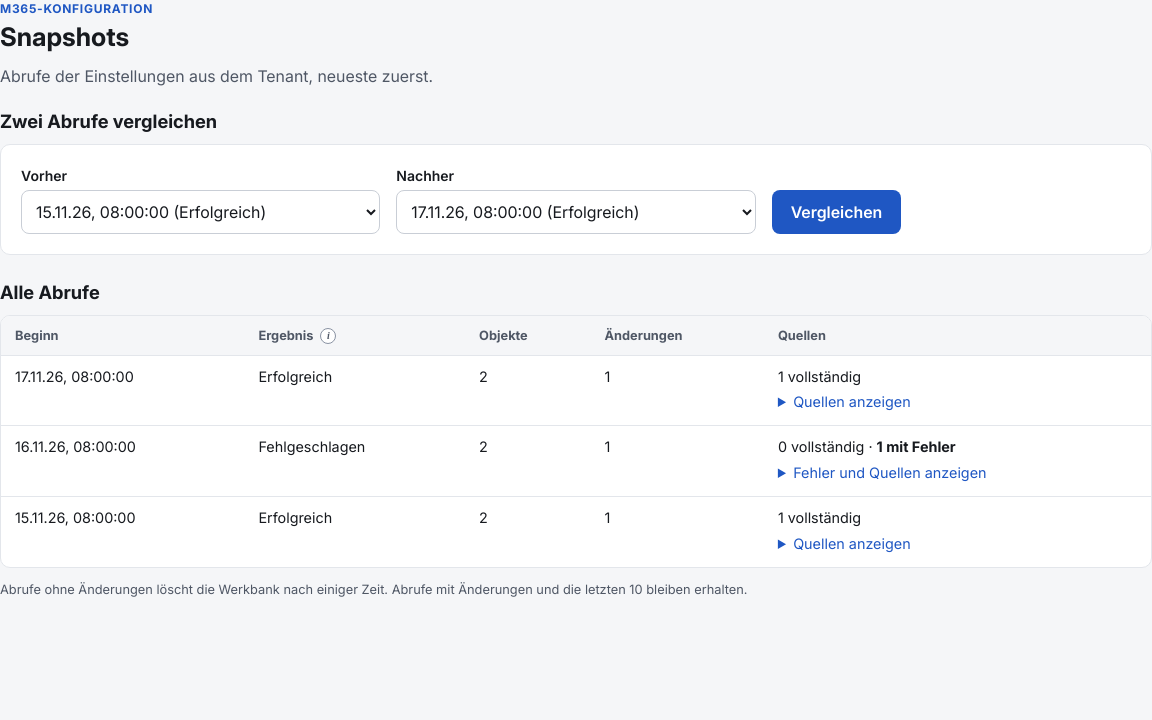
SnapshotsPage › vergleicht den vorletzten mit dem neuesten verwertbaren Abruf
Click the button "Vergleichen" at (837, 212), box [772,190,901,234]
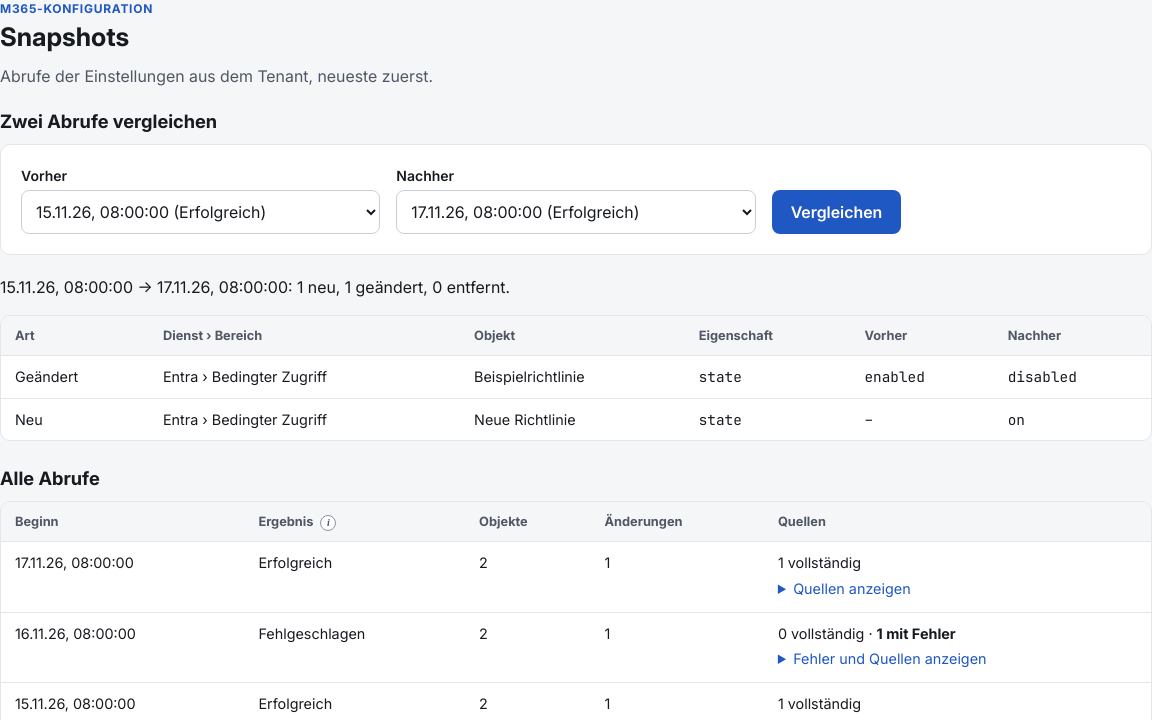
Result: the text "1 neu, 1 geändert, 0 entfernt" is shown at [297,277,510,297]
Result: the text "Geändert" is shown at [1,356,149,398]
Result: the text "enabled" is shown at [850,356,994,398]
